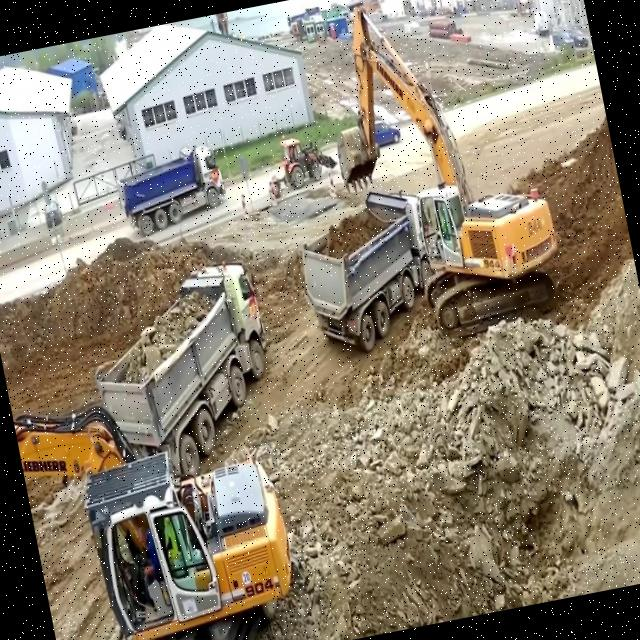Dump Truck: (79, 250, 304, 498), (286, 182, 444, 362), (107, 140, 232, 240)
Excavator: (306, 0, 574, 356), (12, 365, 315, 640)
Loader: (258, 123, 342, 205)
